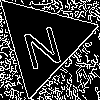N: (18, 16, 64, 71)
